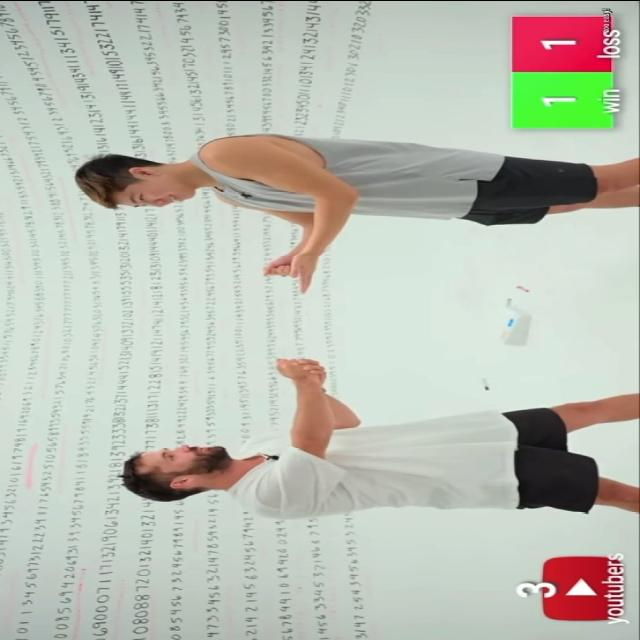Rock: (273, 356, 322, 382), (258, 258, 292, 276)
